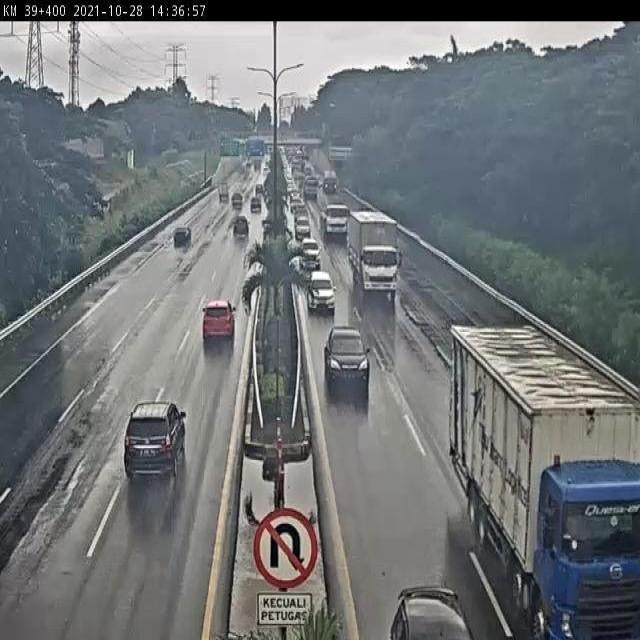big truck: (475, 384, 637, 633), (351, 218, 403, 310), (326, 207, 352, 236)
car: (106, 403, 192, 480), (322, 334, 374, 406), (194, 301, 238, 339), (309, 270, 335, 310), (304, 236, 317, 275), (229, 216, 253, 237), (174, 224, 191, 249), (299, 212, 309, 239)
